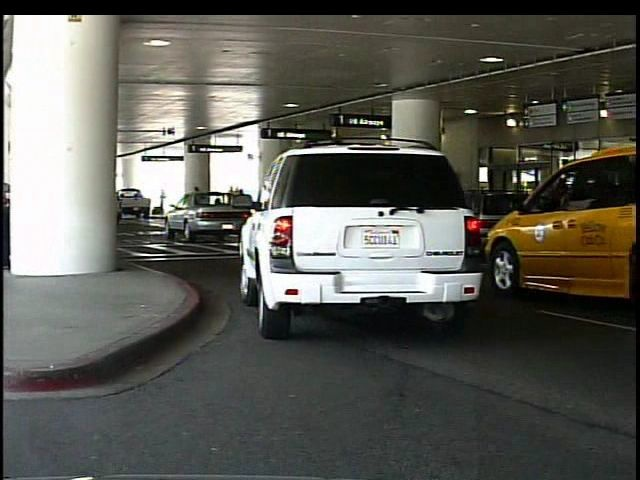person: (548, 173, 577, 259), (161, 188, 169, 215)
